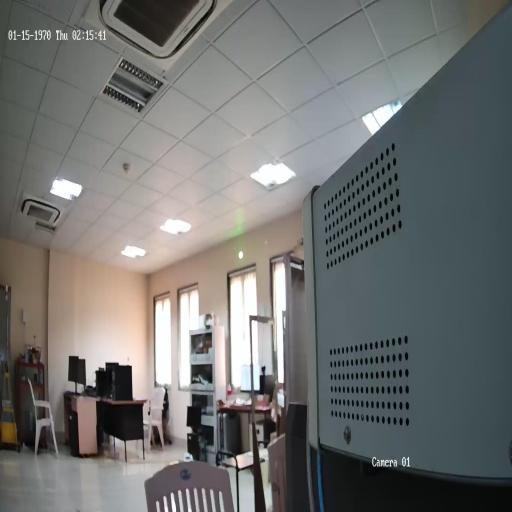laser: (238, 248, 244, 262)
